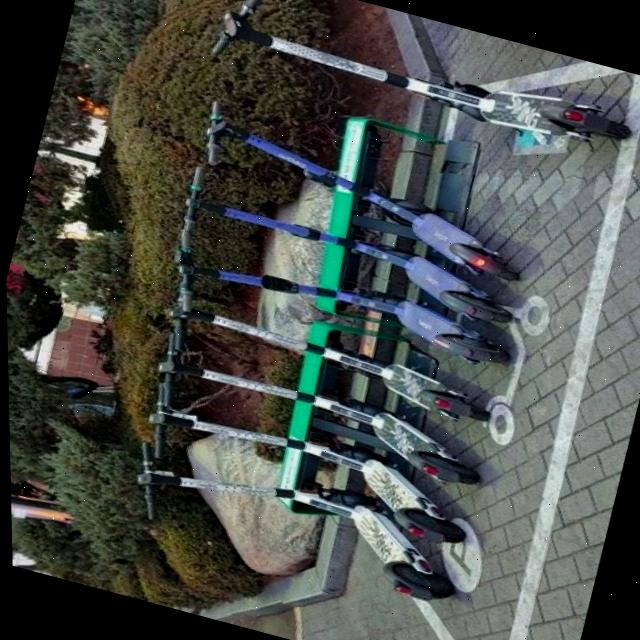kickboard_ok: (203, 0, 640, 165), (121, 452, 484, 606), (162, 239, 494, 370)
parking_zone: (471, 276, 631, 468)
